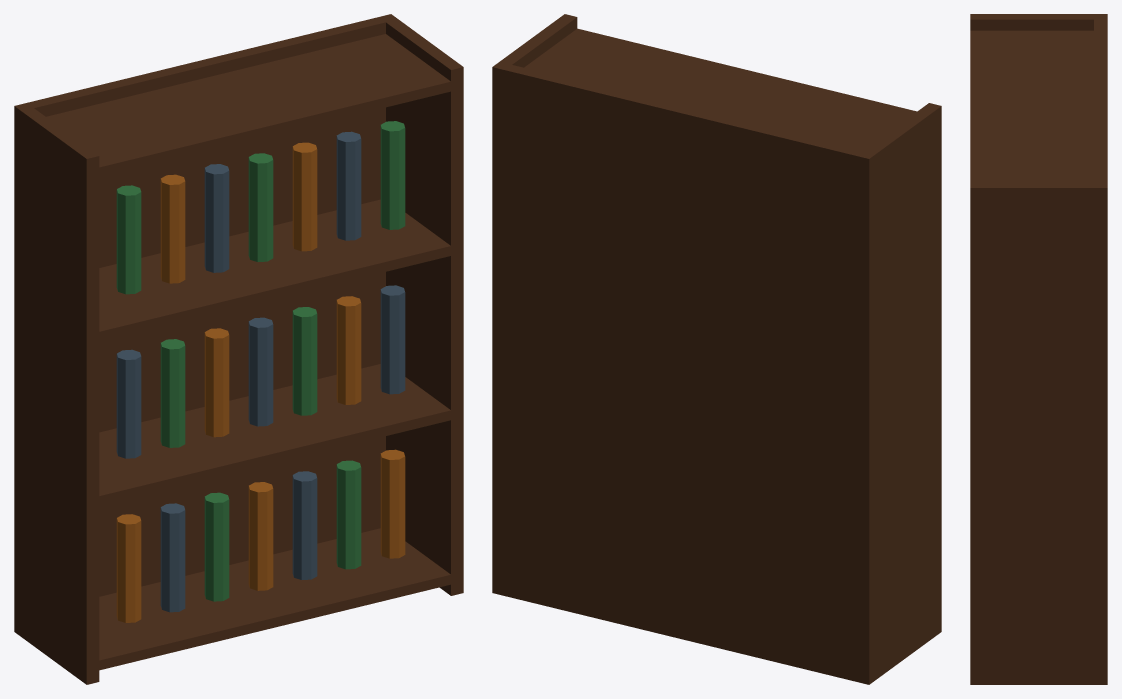
File: liquor shelf.glb
The picture shows the model from 3 angles, left to right: view 1: azimuth 30°, elevation 25°; view 2: azimuth 150°, elevation 25°; view 3: azimuth 270°, elevation 25°; orthographic projection. The views are drawn at different scales.
Visible parts, largest first — view 1: liquor shelf; view 2: liquor shelf; view 3: liquor shelf.
Part boxes in pixels (x1,y1,x2,y2): liquor shelf: (14,14,463,684); liquor shelf: (492,14,941,684); liquor shelf: (970,14,1107,684).
Size of the model in its own units: 1.2 by 1.6 by 0.4.
